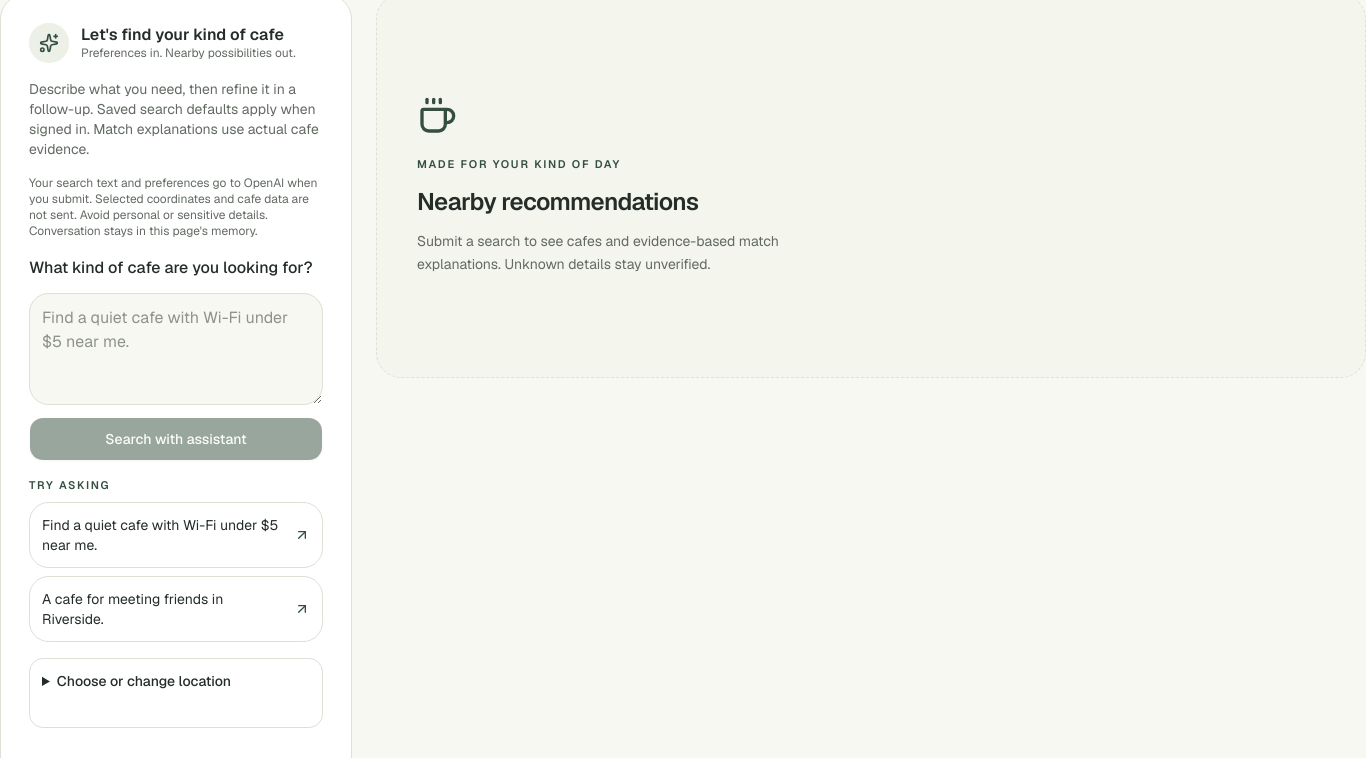
Test: Conversational search › preserves input and regular-search fallback when AI fails
The width and height of the screenshot is (1366, 758).
Type "Show cafes in BKK1" into the text box labelled "What kind of cafe are you looking for?" at (176, 349), box x1=29 y1=293 x2=323 y2=405
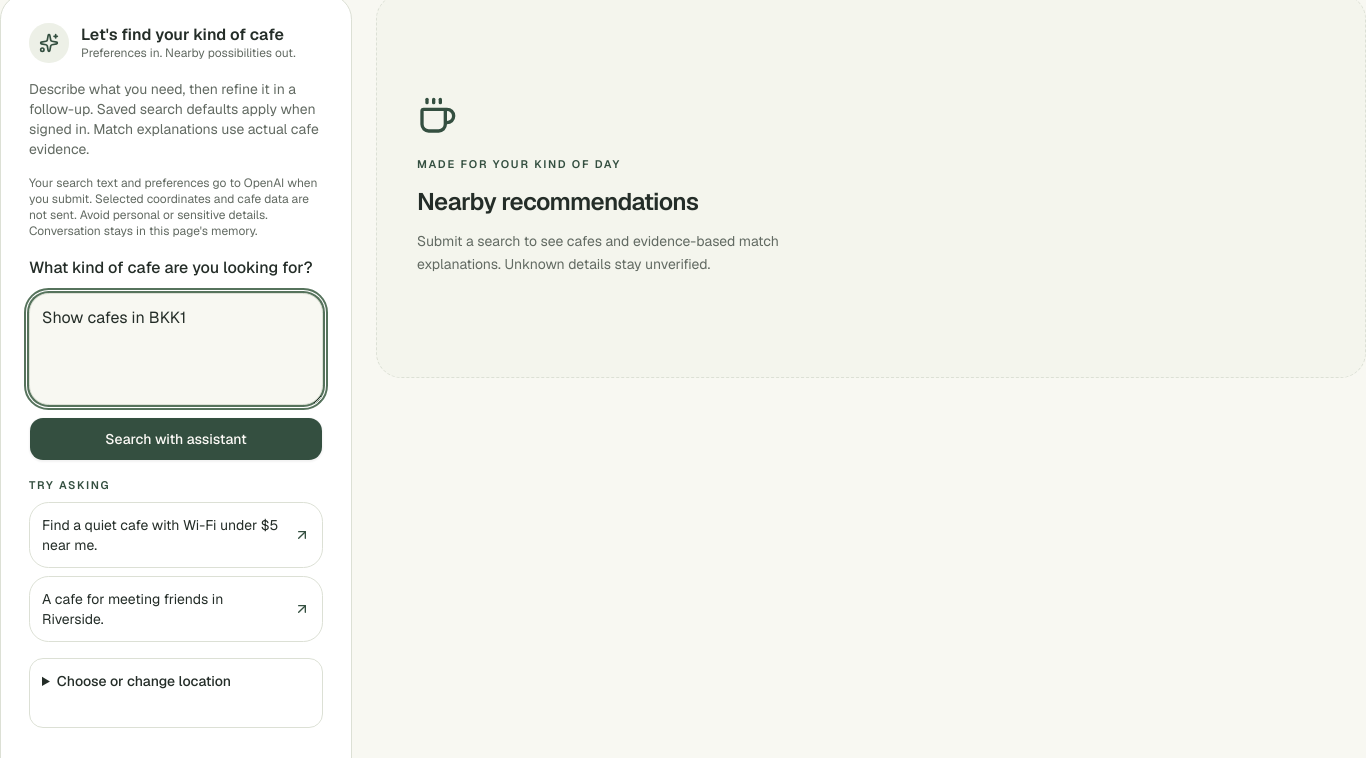
Click the button "Search with assistant" at (176, 439), box x1=29 y1=417 x2=323 y2=461
(page scrolled)
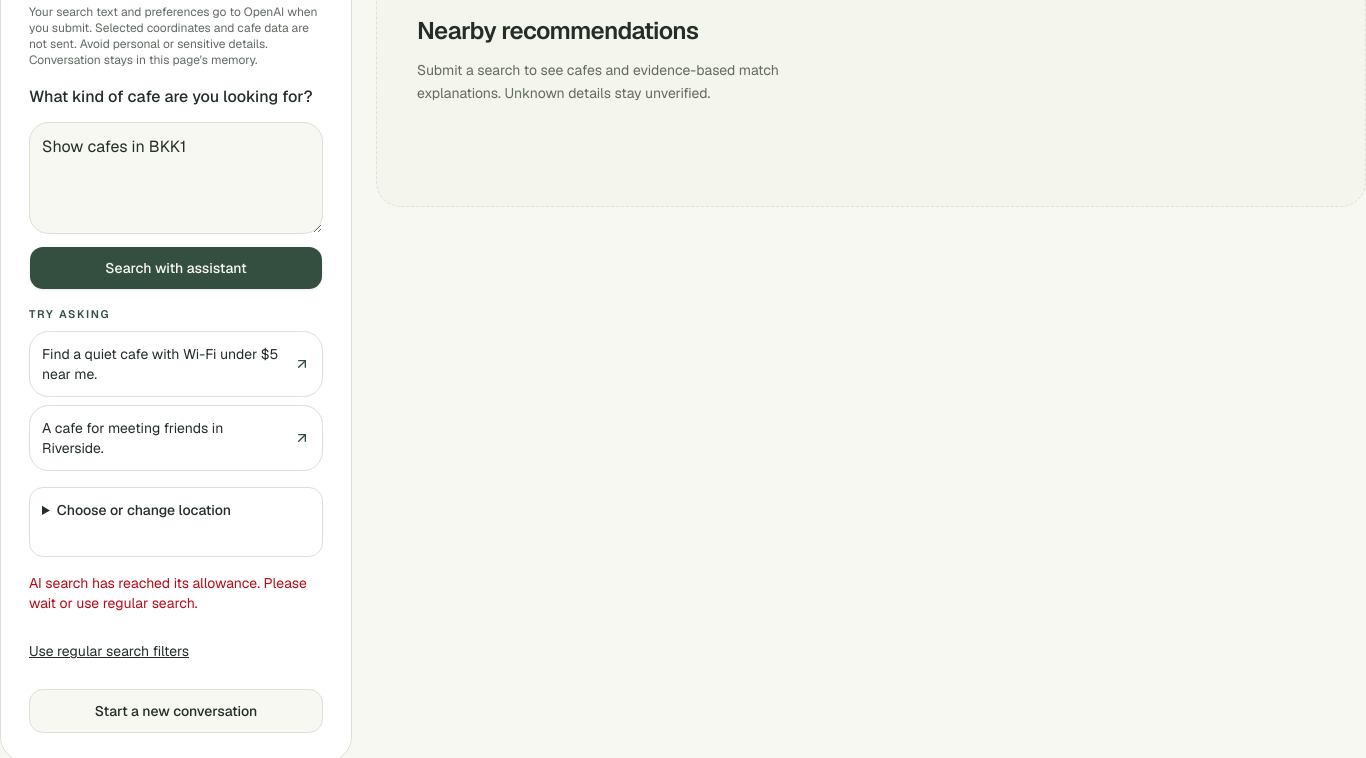
Expected: the message shows "allowance", x1=29 y1=574 x2=307 y2=612
